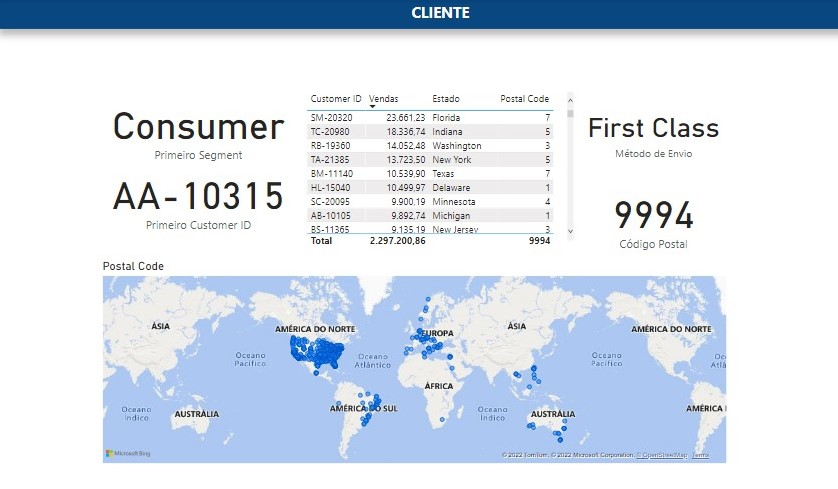

What the dashboard file says about the page in this screenshot:
{"tool":"powerbi","page":{"name":"Cliente","canvas":[1280,720],"ordinal":6},"visuals":[{"type":"tableEx","fields":{"Values":["Orders.Customer ID","Sum(Orders.Vendas)","Orders.Estado","CountNonNull(Orders.Postal Code)"]},"box":[442.6,127.9,393.8,232.8],"z":0},{"type":"map","fields":{"Category":["Orders.Postal Code"]},"box":[149.5,373.7,906.8,298.9],"z":1000},{"type":"card","fields":{"Values":["CountNonNull(Orders.Postal Code)"]},"box":[836.4,254.4,219.9,119.3],"z":2000},{"type":"card","fields":{"Values":["Min(Orders.Customer ID)"]},"box":[142.3,211.3,300.4,149.5],"z":3000},{"type":"card","fields":{"Values":["Min(Orders.Segment)"]},"box":[142.3,127.9,300.4,116.4],"z":4000},{"type":"card","fields":{"Values":["Min(Orders.Ship Mode)"]},"box":[836.4,127.9,219.9,126.5],"z":5000},{"type":"textbox","box":[0,0,1280.5,43.1],"z":6000}]}

Visuals, with their boxes on the page's 1280x720 design canvas (x1, y1, x2, y2). These are canvas units, not pixel positions in the 838x489 screenshot, which may show the page scaled, cropped or inside an application window:
tableEx - Orders.Customer ID x Sum(Orders.Vendas): BBox(443, 128, 836, 361)
map - Orders.Postal Code: BBox(150, 374, 1056, 673)
card - CountNonNull(Orders.Postal Code): BBox(836, 254, 1056, 374)
card - Min(Orders.Customer ID): BBox(142, 211, 443, 361)
card - Min(Orders.Segment): BBox(142, 128, 443, 244)
card - Min(Orders.Ship Mode): BBox(836, 128, 1056, 254)
textbox: BBox(0, 0, 1280, 43)
